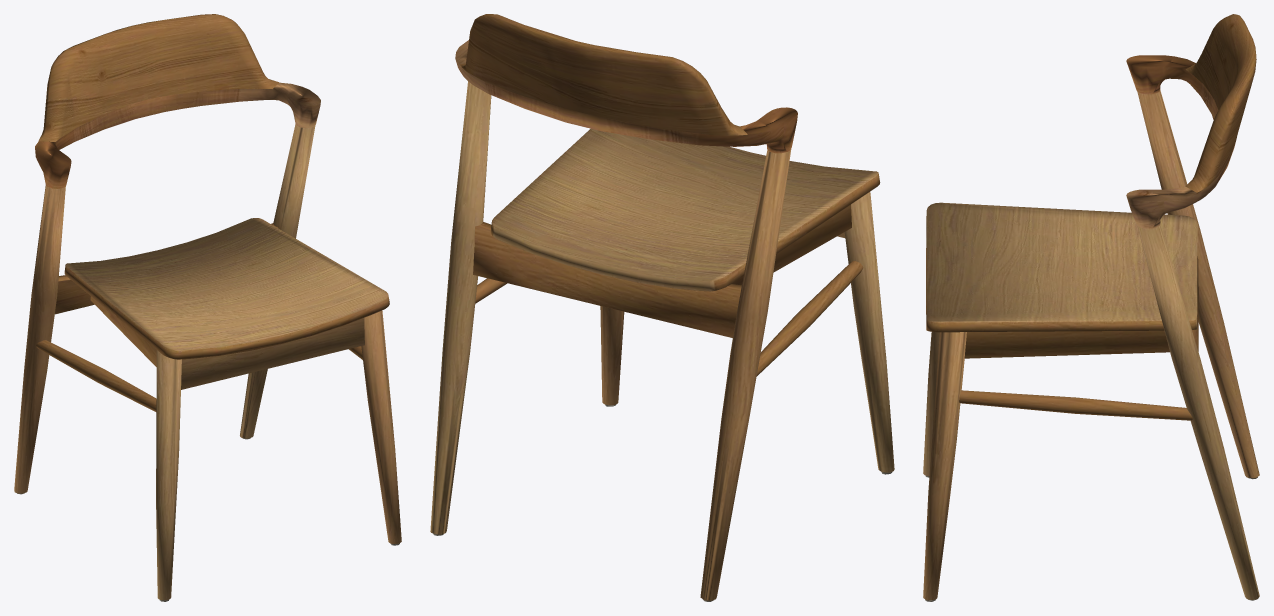
The model's file is abo-B07B83KVGK.glb.
3 renders of one model, left to right at view 1: azimuth 30°, elevation 25°; view 2: azimuth 150°, elevation 25°; view 3: azimuth 270°, elevation 25°, orthographic. The views are drawn at different scales.
Visible parts, largest first — view 1: RootNode; view 2: RootNode; view 3: RootNode.
Boxes of the visible parts, bbox=[...] form: RootNode: bbox=[14, 14, 401, 601]; RootNode: bbox=[430, 14, 894, 601]; RootNode: bbox=[923, 14, 1259, 601].
Bounding box in the file's own units: 0.512 × 0.7912 × 0.4989.
Materials: 1 (1 with a texture image).
